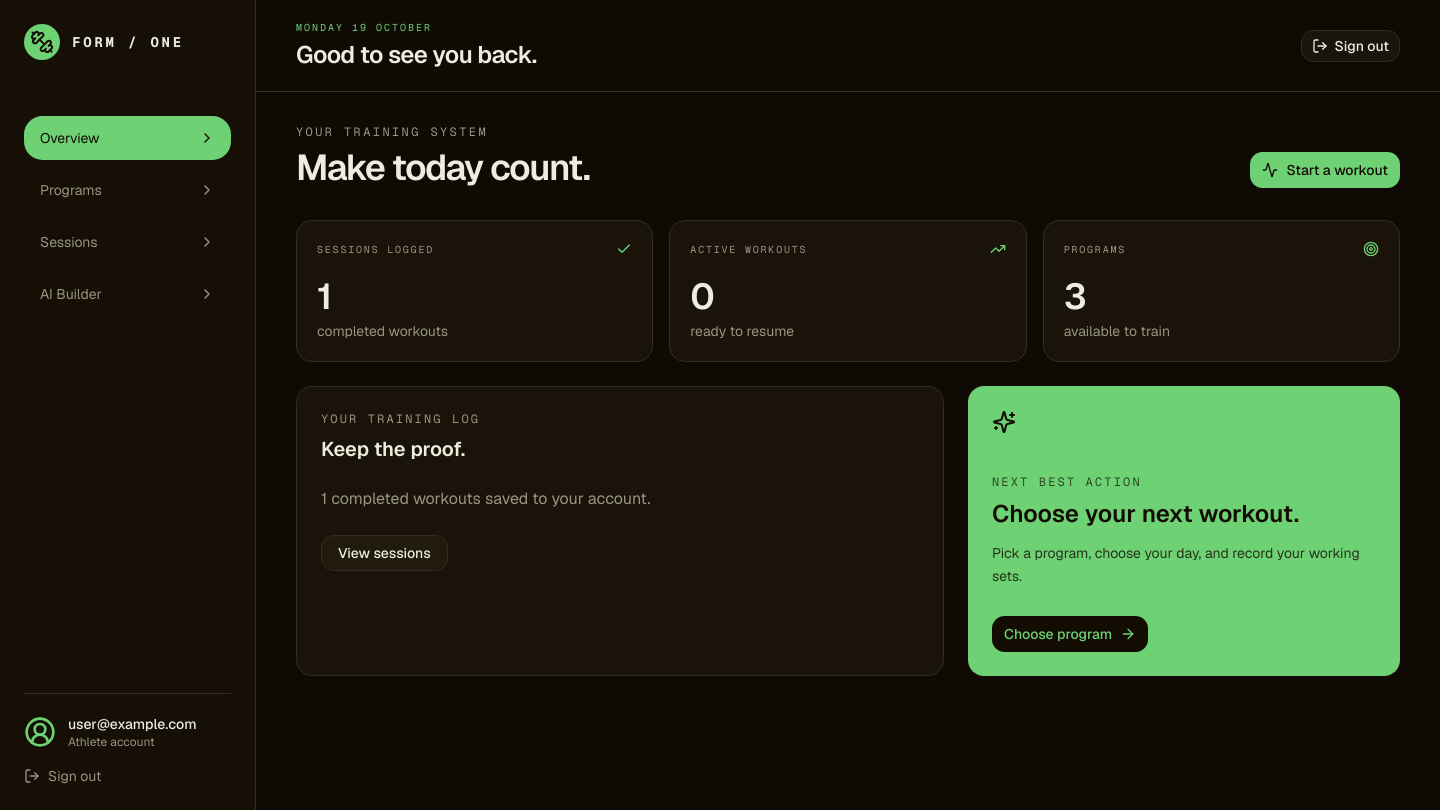
Test: homepage training flow › shows stored sessions instead of the fixed lower-body sample workout
Click the button "sessions" at coordinates (128, 242), box [24, 220, 231, 264]
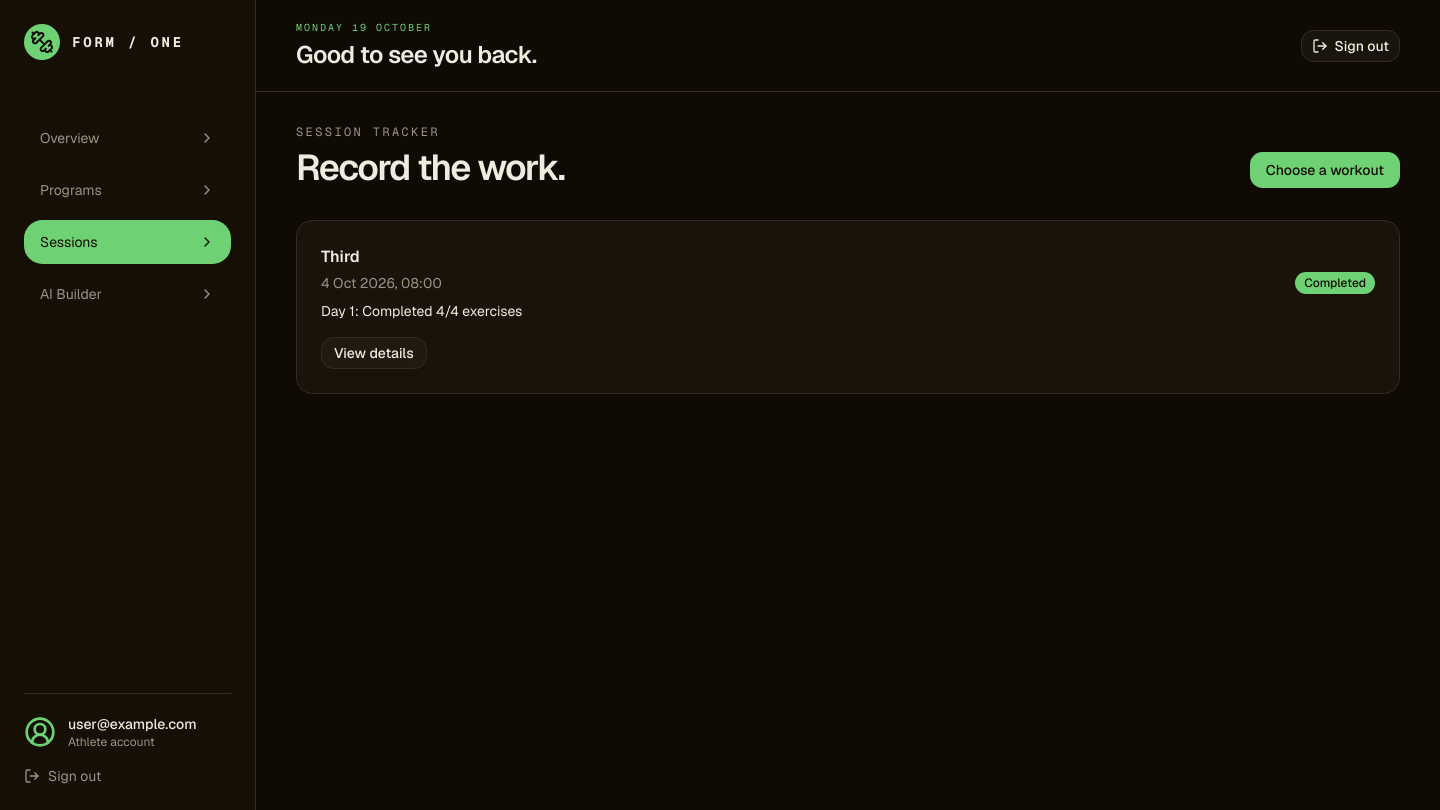
Expected: the text "Completed" is shown, [321, 302, 522, 320]
Result: the text "Third" is shown at [321, 246, 360, 267]
Result: the text "Day 1: Completed 4/4 exercises" is shown at [321, 301, 522, 321]
